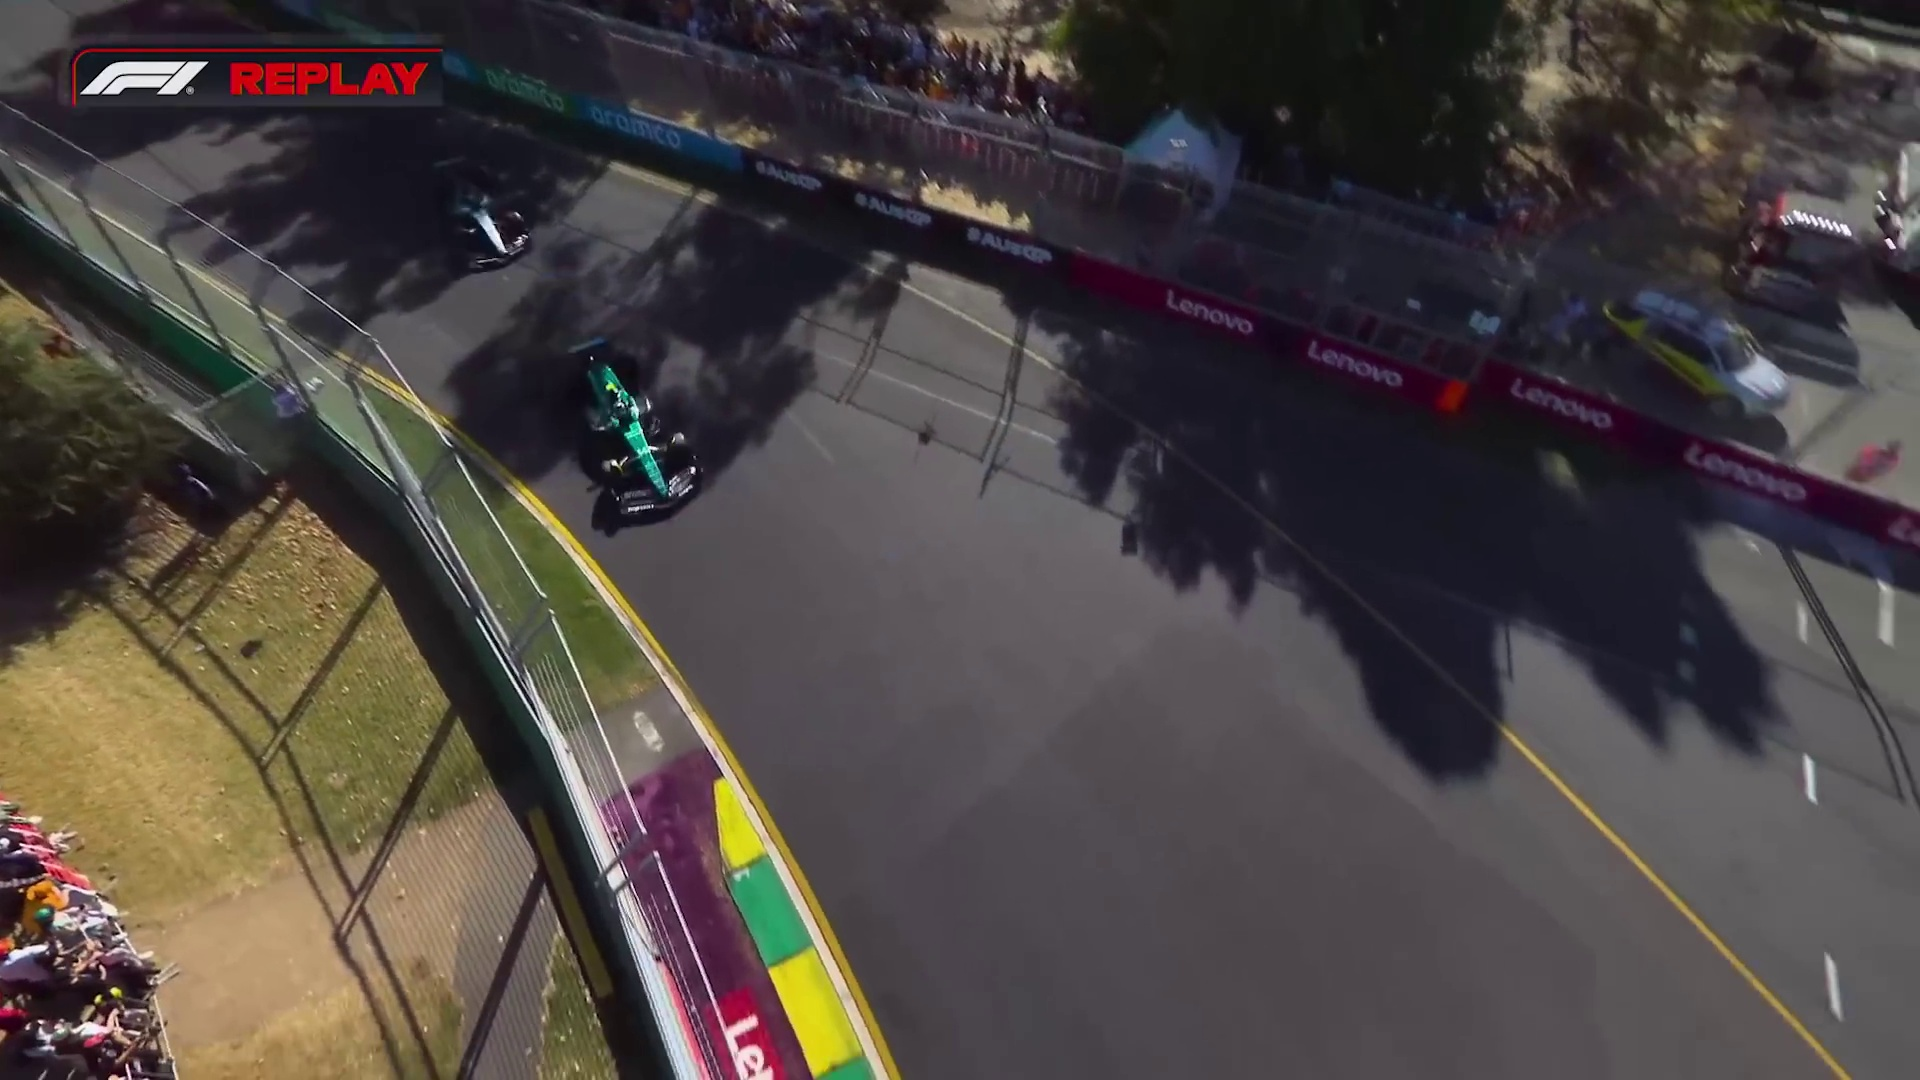AstonMartin: (551, 332, 698, 522)
Mercedes: (407, 154, 527, 266)
